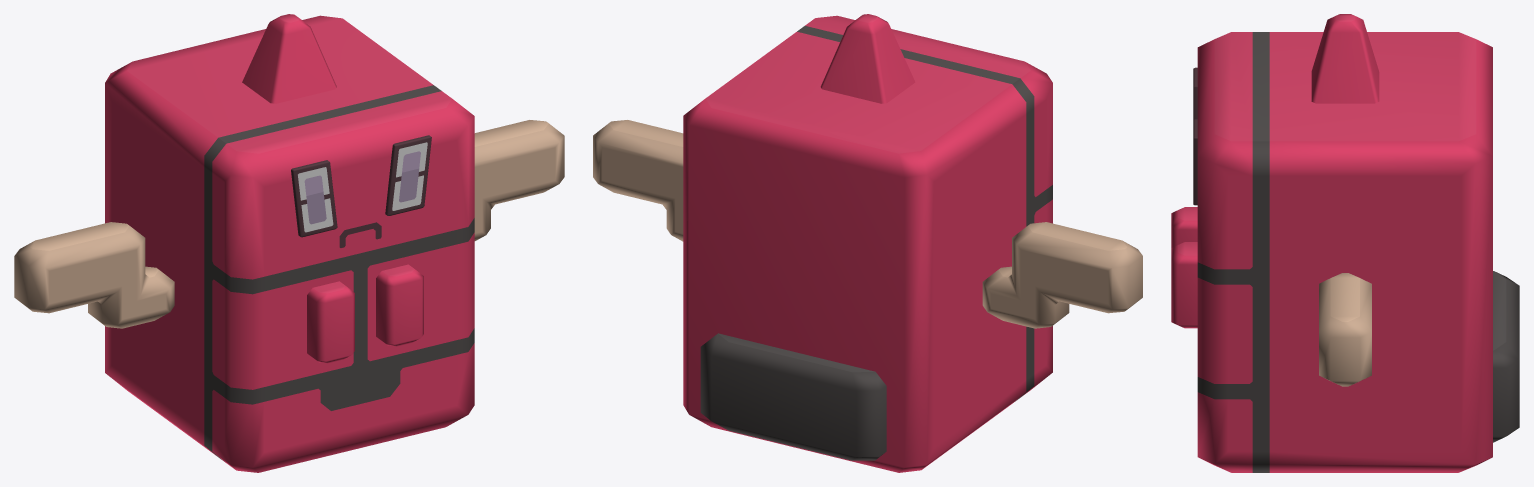
3 renders of one model, left to right at view 1: azimuth 30°, elevation 25°; view 2: azimuth 150°, elevation 25°; view 3: azimuth 270°, elevation 25°, orthographic. The views are drawn at different scales.
Visible parts, largest first — view 1: model; view 2: model; view 3: model.
Boxes of the visible parts, x1=… form: model: x1=14, y1=14, x2=564, y2=472; model: x1=593, y1=14, x2=1142, y2=472; model: x1=1171, y1=14, x2=1519, y2=472.
Size of the model in its own units: 2.29 by 1.57 by 1.24.
